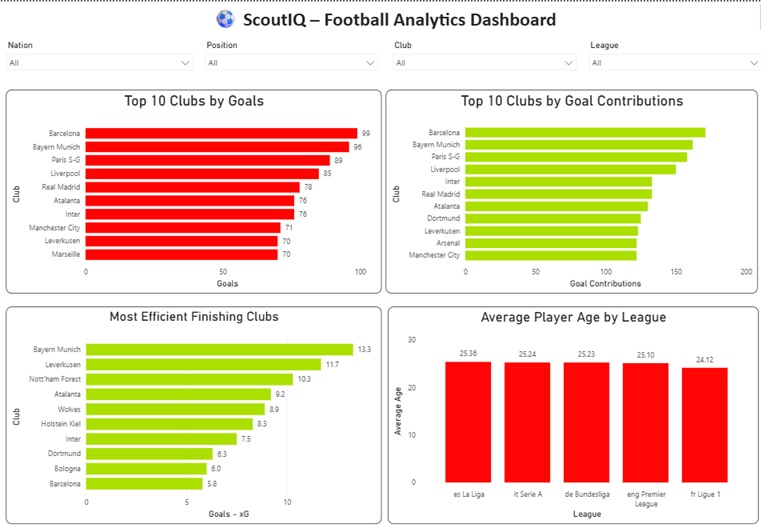

The dashboard page shown, as its layout file describes it:
{"tool":"powerbi","page":{"name":"🏆 Clubs","canvas":[1280,900],"ordinal":2},"visuals":[{"type":"textbox","box":[9.6,0,1270.7,52.1],"z":0},{"type":"clusteredBarChart","title":"Top 10 Clubs by Goals","fields":{"Category":["Players.Club"],"Y":["Sum(Players.Goals)"]},"box":[10,146,626,340],"z":1000},{"type":"clusteredBarChart","title":"Most Efficient Finishing Clubs","fields":{"Category":["Players.Club"],"Y":["Players.Club xG Difference"]},"box":[10,508,626,362],"z":2000},{"type":"clusteredColumnChart","title":"Average Player Age by League","fields":{"Category":["Players.League"],"Y":["Avg(Players.Age)"]},"box":[646,508,618,362],"z":3000},{"type":"slicer","fields":{"Values":["Players.League"]},"box":[971.4,58.6,308.6,60],"z":4000},{"type":"slicer","fields":{"Values":["Players.Nation"]},"box":[0,58.6,331.4,60],"z":5000},{"type":"slicer","fields":{"Values":["Players.Club"]},"box":[645.7,58.6,325.7,60],"z":6000},{"type":"slicer","fields":{"Values":["Players.Position"]},"box":[331.4,58.6,308.6,60],"z":7000},{"type":"clusteredBarChart","title":"Top 10 Clubs by Goal Contributions","fields":{"Category":["Players.Club"],"Y":["Sum(Players.Goal_Contributions)"]},"box":[644,146,620,340],"z":8000}]}

Visuals, with their boxes in screenshot pixels (x1, y1, x2, y2), scaled from the page's 1280x900 canvas onto the 761x528 screenshot:
textbox: 6, 0, 760, 31
"Top 10 Clubs by Goals" clusteredBarChart: 6, 86, 378, 285
"Most Efficient Finishing Clubs" clusteredBarChart: 6, 298, 378, 510
"Average Player Age by League" clusteredColumnChart: 384, 298, 751, 510
slicer - Players.League: 578, 34, 760, 70
slicer - Players.Nation: 0, 34, 197, 70
slicer - Players.Club: 384, 34, 578, 70
slicer - Players.Position: 197, 34, 380, 70
"Top 10 Clubs by Goal Contributions" clusteredBarChart: 383, 86, 751, 285
